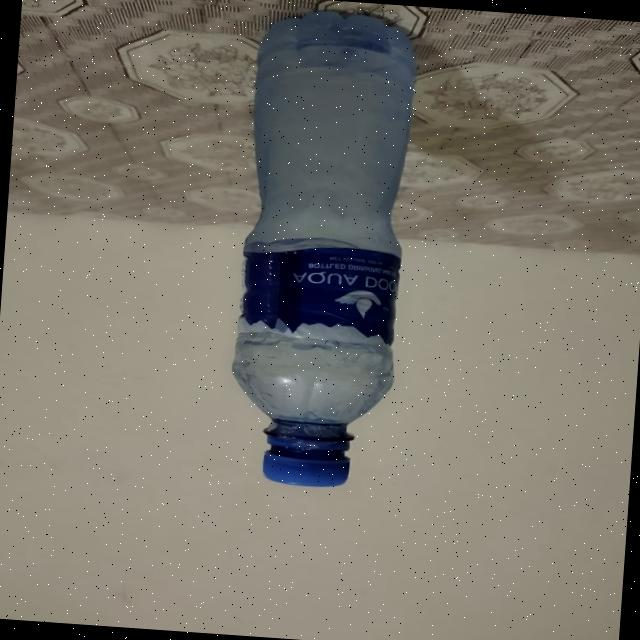bottle: (218, 1, 426, 490)
cap: (262, 426, 352, 482)
label: (230, 232, 406, 334)
